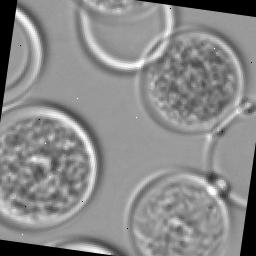picoshell: (0, 102, 100, 230), (134, 25, 244, 132), (123, 167, 229, 256), (77, 0, 173, 70), (201, 98, 256, 207), (1, 1, 44, 110), (45, 236, 126, 255)
